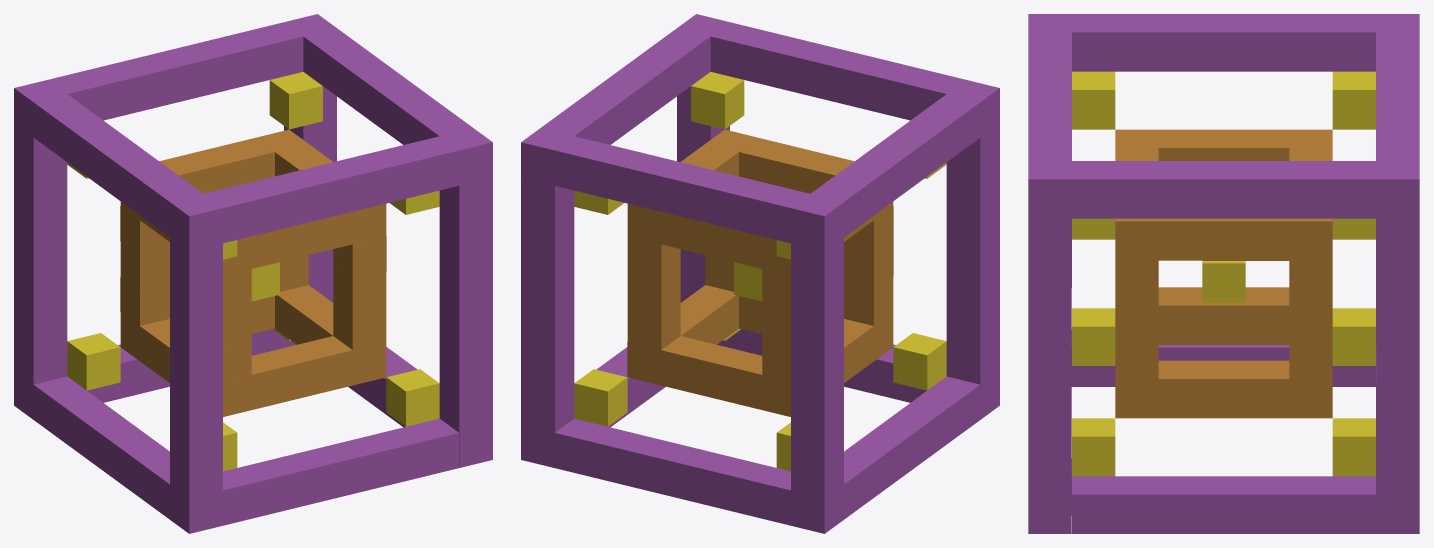
Rendered from asset.gltf.
The picture shows the model from 3 angles, left to right: view 1: azimuth 30°, elevation 25°; view 2: azimuth 150°, elevation 25°; view 3: azimuth 270°, elevation 25°; orthographic projection. The views are drawn at different scales.
Visible parts, largest first — view 1: node_MeshObject-1058414592-PolyPaper21; view 2: node_MeshObject-1058414592-PolyPaper21; view 3: node_MeshObject-1058414592-PolyPaper21.
Part boxes in pixels (box(x1,y1,x2,y2)): node_MeshObject-1058414592-PolyPaper21: box(14, 14, 492, 533); node_MeshObject-1058414592-PolyPaper21: box(521, 14, 999, 533); node_MeshObject-1058414592-PolyPaper21: box(1028, 14, 1419, 533).
Bounding box in the file's own units: 4.23 × 4.23 × 4.23.
